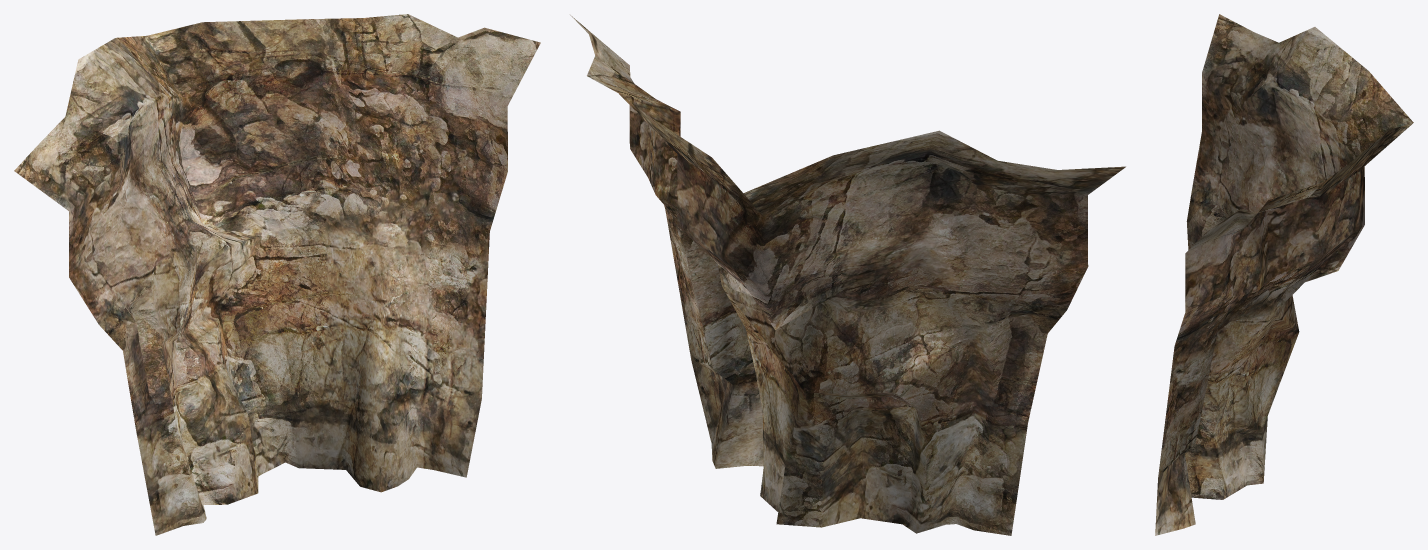
Rendered from ex_DungeonSet_Cliff_01D.fbx.
3 views of the same model, side by side, from view 1: azimuth 30°, elevation 25°; view 2: azimuth 150°, elevation 25°; view 3: azimuth 270°, elevation 25° (orthographic). The views are drawn at different scales.
Visible parts, largest first — view 1: ex_DungeonSet_Cliff_01D; view 2: ex_DungeonSet_Cliff_01D; view 3: ex_DungeonSet_Cliff_01D.
Boxes of the visible parts, x1,y1,x2,y2 form: ex_DungeonSet_Cliff_01D: [14, 14, 540, 535]; ex_DungeonSet_Cliff_01D: [570, 15, 1125, 535]; ex_DungeonSet_Cliff_01D: [1155, 14, 1413, 535].
Size of the model in its own units: 807 by 632 by 390.
